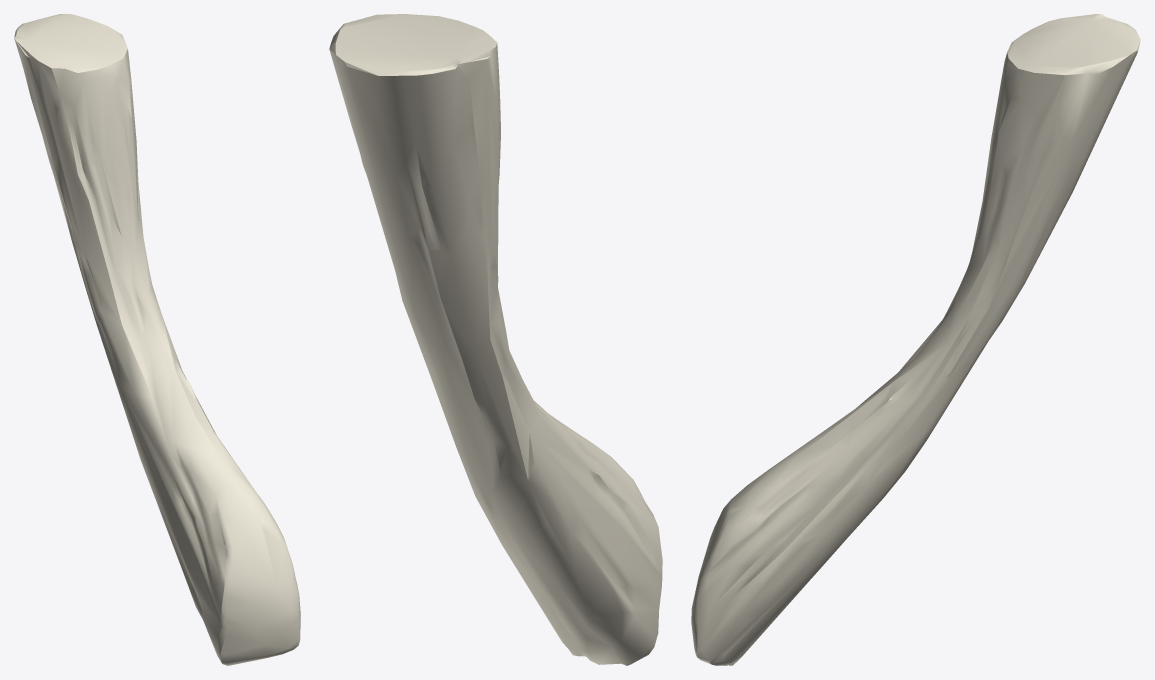
The model's file is fma57084_fj7347.glb.
3 renders of one model, left to right at view 1: azimuth 30°, elevation 25°; view 2: azimuth 150°, elevation 25°; view 3: azimuth 270°, elevation 25°, orthographic. The views are drawn at different scales.
Visible parts, largest first — view 1: FMA57084_FJ7347; view 2: FMA57084_FJ7347; view 3: FMA57084_FJ7347.
Boxes of the visible parts, <box> form: FMA57084_FJ7347: <box>14,14,300,665</box>; FMA57084_FJ7347: <box>329,14,662,665</box>; FMA57084_FJ7347: <box>691,14,1140,665</box>.
Size of the model in its own units: 0.0064 by 0.0279 by 0.0188.
